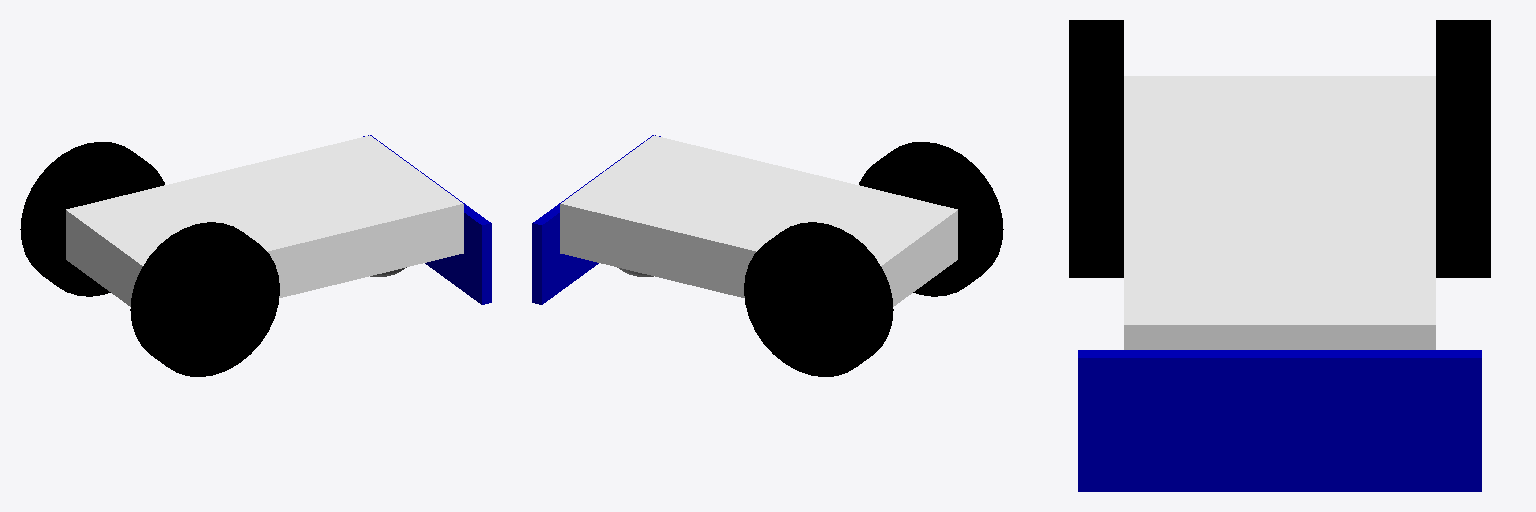
The robot description file, URDF, robot "test_robot":
<robot name="test_robot">

  <!-- Base Link -->
  <link name="base_link">
    <visual>
      <geometry>
        <box size="0.32 0.17 0.05"/>
      </geometry>
      <origin rpy="0 0 0" xyz="0 0 0.07"/>
      <material name="white">
        <color rgba="1 1 1 1"/>
      </material>
    </visual>
    <collision>
      <geometry>
        <box size="0.32 0.17 0.05"/>
      </geometry>
      <origin rpy="0 0 0" xyz="0 0 0.045"/>
    </collision>
    <inertial>
      <origin xyz="0 0 0.045" rpy="0 0 0"/>
      <mass value="1.0"/>
      <inertia ixx="0.002" ixy="0.0" ixz="0.0" iyy="0.001" iyz="0.0" izz="0.003"/>
    </inertial>
  </link>

  <!-- Front Wheel -->
  <link name="front_wheel">
    <visual>
      <geometry>
        <sphere radius="0.04"/>
      </geometry>
      <origin rpy="0 0 0" xyz="0 0 0.0"/>
      <material name="grey">
        <color rgba="0.5 0.5 0.5 1"/>
      </material>
    </visual>
    <collision>
      <geometry>
        <sphere radius="0.04"/>
      </geometry>
      <origin rpy="0 0 0" xyz="0 0 0"/>
    </collision>
    <inertial>
      <origin xyz="0 0 0" rpy="0 0 0"/>
      <mass value="0.1"/>
      <inertia ixx="0.00002" ixy="0.0" ixz="0.0" iyy="0.00002" iyz="0.0" izz="0.0003"/>
    </inertial>
  </link>

  <!--  Joint for FrFixedont Wheel -->
  <joint name="base_to_front_wheel" type="fixed">
    <parent link="base_link"/>
    <child link="front_wheel"/>
    <origin xyz="0.12 0 0.04" rpy="0 0 0"/>
  </joint>

  <!-- Left Wheel (Moved to the back) -->
  <link name="lwheel">
    <visual>
      <geometry>
        <cylinder length="0.03" radius="0.07"/>
      </geometry>
      <origin rpy="0 0 0" xyz="0 0 0"/>
      <material name="black">
        <color rgba="0 0 0 1"/>
      </material>
    </visual>
    <collision>
      <geometry>
        <cylinder length="0.03" radius="0.07"/>
      </geometry>
      <origin rpy="0 0 0" xyz="0 0 0"/>
    </collision>
    <inertial>
      <origin xyz="0 0 0" rpy="0 0 0"/>
      <mass value="0.2"/>
      <inertia ixx="0.000037" ixy="0.0" ixz="0.0" iyy="0.000037" iyz="0.0" izz="0.00049"/>
    </inertial>
  </link>

  <!-- Rotational Joint for Left Wheel -->
  <joint name="base_to_lwheel" type="continuous">
    <parent link="base_link"/>
    <child link="lwheel"/>
    <origin xyz="-0.12 0.1 0.07" rpy="1.5708 0 0"/>
    <axis xyz="0 0 1"/> <!-- Rotate around Z-axis -->
  </joint>

  <!-- Right Wheel (Moved to the back) -->
  <link name="rwheel">
    <visual>
      <geometry>
        <cylinder length="0.03" radius="0.07"/>
      </geometry>
      <origin rpy="0 0 0" xyz="0 0 0"/>
      <material name="black">
        <color rgba="0 0 0 1"/>
      </material>
    </visual>
    <collision>
      <geometry>
        <cylinder length="0.03" radius="0.07"/>
      </geometry>
      <origin rpy="0 0 0" xyz="0 0 0"/>
    </collision>
    <inertial>
      <origin xyz="0 0 0" rpy="0 0 0"/>
      <mass value="0.2"/>
      <inertia ixx="0.000037" ixy="0.0" ixz="0.0" iyy="0.000037" iyz="0.0" izz="0.00049"/>
    </inertial>
  </link>

  <!-- Rotational Joint for Right Wheel -->
  <joint name="base_to_rwheel" type="continuous">
    <parent link="base_link"/>
    <child link="rwheel"/>
    <origin xyz="-0.12 -0.1 0.07" rpy="1.5708 0 0"/>
    <axis xyz="0 0 1"/> <!-- Rotate around Z-axis -->
  </joint>


   <!-- Front Wheel Attachment -->
  <link name="shovel">
    <visual>
      <geometry>
        <box size="0.01 0.22 0.08"/>
      </geometry>
      <origin rpy="0 0 0" xyz="0 0 0"/>
      <material name="blue">
        <color rgba="0 0 0.8 1"/>
      </material>
    </visual>
    <collision>
      <geometry>
        <box size="0.01 0.22 0.08"/>
      </geometry>
      <origin rpy="0 0 0" xyz="0 0 0"/>
    </collision>
    <inertial>
      <origin xyz="0 0 0" rpy="0 0 0"/>
      <mass value="0.3"/>
      <inertia ixx="0.0001" ixy="0.0" ixz="0.0" iyy="0.0001" iyz="0.0" izz="0.0002"/>
    </inertial>
  </link>

  <joint name="base_to_shovel" type="prismatic">
    <parent link="base_link"/>
    <child link="shovel"/>
    <origin xyz="0.17 0 0.042" rpy="0 0 0"/>
    <axis xyz="1 0 0"/> <!-- change axis to the translation direction you want (x/y/z) -->
    <limit lower="0.0" upper="0.1" effort="50" velocity="0.1"/> <!-- adjust limits/effort/velocity as needed -->
  </joint>
  

</robot>

--- Render facts (derived) ---
Views: 3 orthographic renders of the robot side by side, from view 1: azimuth 30°, elevation 25°; view 2: azimuth 150°, elevation 25°; view 3: azimuth 270°, elevation 25°.
Robot: test_robot — 5 links, 4 joints (2 continuous, 1 prismatic, 1 fixed); root link base_link; default pose: every joint at zero.
Links seen in each view (by area): view 1: base_link, rwheel, lwheel, shovel; view 2: base_link, lwheel, rwheel, shovel; view 3: base_link, shovel, lwheel, rwheel.
Link boxes in pixels (left/top/right/bottom): base_link: left=66, top=135, right=463, bottom=306; rwheel: left=130, top=222, right=279, bottom=376; lwheel: left=20, top=142, right=164, bottom=296; shovel: left=363, top=135, right=491, bottom=304; base_link: left=560, top=135, right=957, bottom=306; lwheel: left=744, top=222, right=893, bottom=376; rwheel: left=859, top=142, right=1003, bottom=296; shovel: left=532, top=135, right=660, bottom=304; base_link: left=1124, top=76, right=1435, bottom=349; shovel: left=1078, top=350, right=1481, bottom=491; lwheel: left=1436, top=20, right=1490, bottom=277; rwheel: left=1069, top=20, right=1123, bottom=277.
Bounding box of the posed robot: 0.365 × 0.23 × 0.14 m (x, y, z).
Geometry: primitives only (box / cylinder / sphere), no mesh files.
